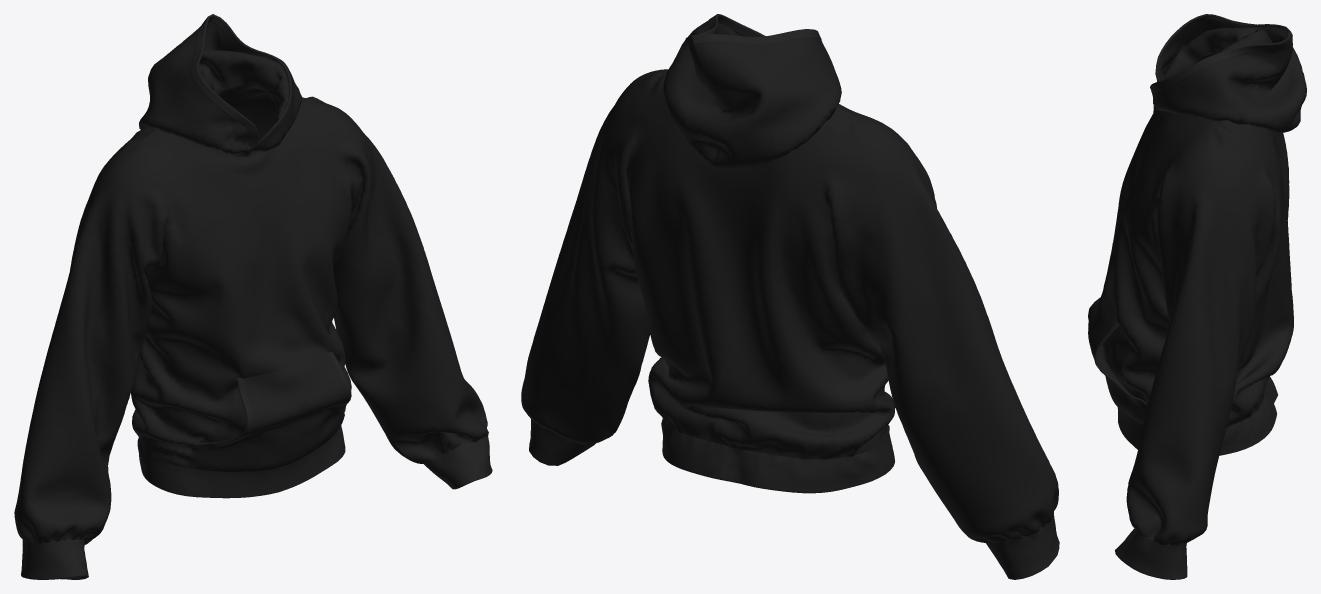
File: hoodie_black.glb
The picture shows the model from 3 angles, left to right: view 1: azimuth 30°, elevation 25°; view 2: azimuth 150°, elevation 25°; view 3: azimuth 270°, elevation 25°; orthographic projection. The views are drawn at different scales.
Visible parts, largest first — view 1: Hoodie.002; view 2: Hoodie.002; view 3: Hoodie.002.
Part boxes in pixels (x1,y1,x2,y2): Hoodie.002: [14, 14, 492, 579]; Hoodie.002: [521, 14, 1059, 579]; Hoodie.002: [1088, 14, 1306, 579].
Bounding box in the file's own units: 2.07 × 1.98 × 0.8517.
2 materials, 2 textured.
